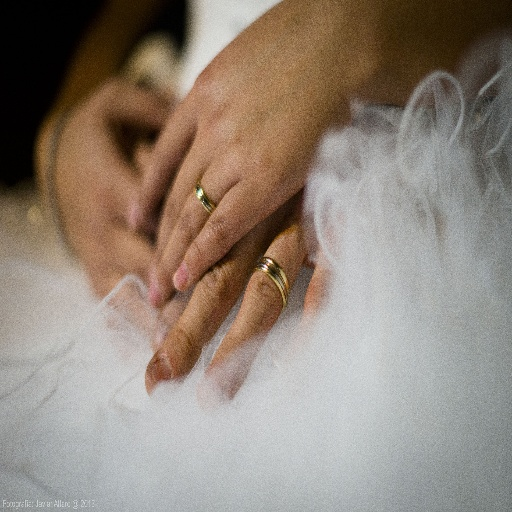hand: (130, 0, 374, 308), (140, 182, 343, 415), (37, 74, 178, 343)
